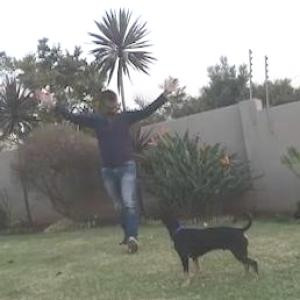takeoff: (29, 70, 178, 241)
